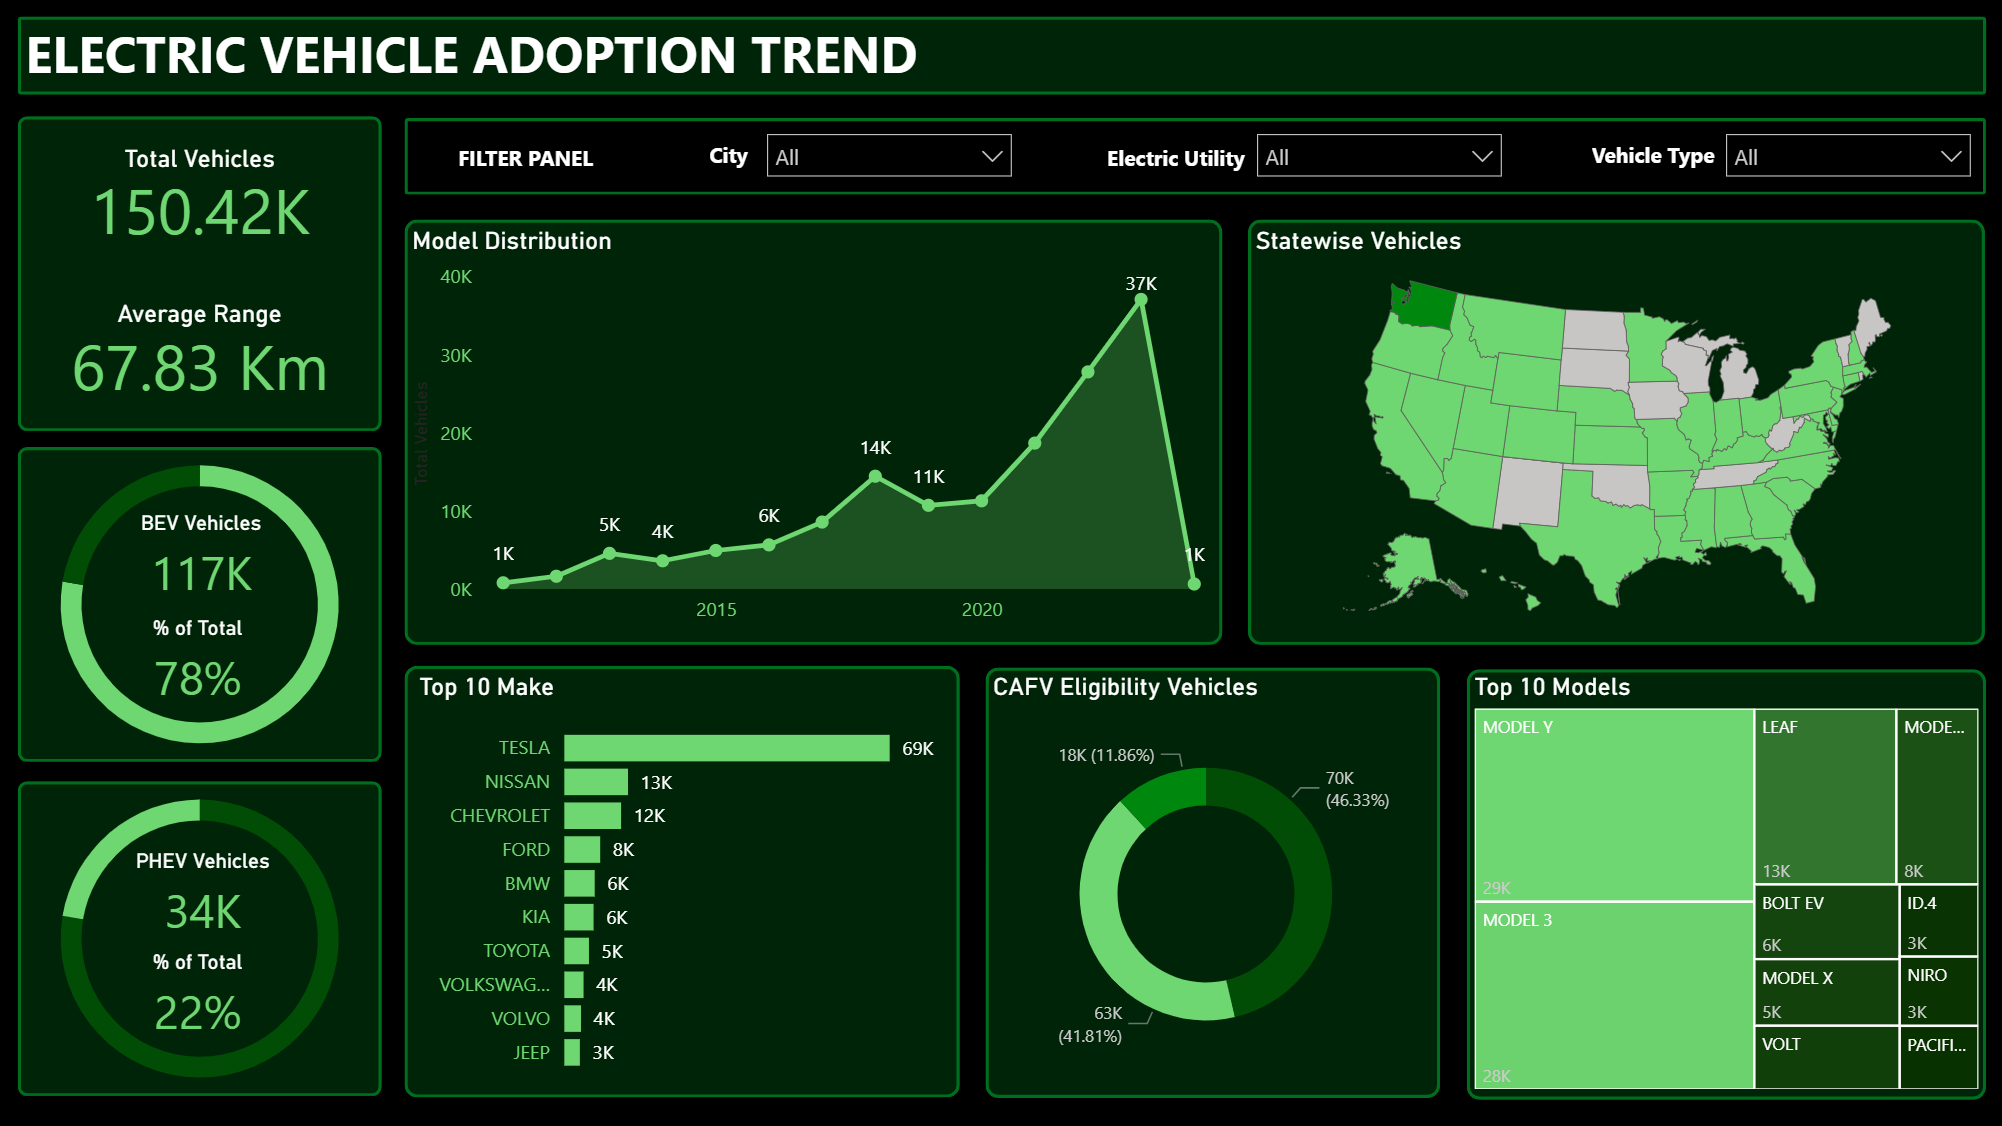

This screenshot's page, from the dashboard's own definition file:
{"tool":"powerbi","page":{"name":"Page 1","canvas":[1280,720],"ordinal":0},"visuals":[{"type":"shape","box":[14.9,11.2,1251.2,49.8],"z":0},{"type":"textbox","box":[14.9,7.5,597,58.5],"z":1000},{"type":"shape","box":[14.9,74.6,231.3,200.2],"z":2000},{"type":"card","title":"Total Vehicles","fields":{"Values":["Count(Electric_Vehicle_Population_Data.DOL Vehicle ID)"]},"box":[14.9,92,231.3,64.7],"z":3000},{"type":"card","title":"Average Range","fields":{"Values":["Electric_Vehicle_Population_Data.Avg Range"]},"box":[14.9,191.5,231.3,64.7],"z":4000},{"type":"shape","box":[14.9,284.8,231.3,200.2],"z":5000},{"type":"shape","box":[14.9,497.5,231.3,200.2],"z":6000},{"type":"donutChart","fields":{"Category":["Electric_Vehicle_Population_Data.Electric Vehicle Type"],"Y":["Electric_Vehicle_Population_Data.Total Vehicles"]},"box":[0,269.2,259.9,230.9],"z":7000},{"type":"card","title":"BEV Vehicles","fields":{"Values":["Electric_Vehicle_Population_Data.BEV Vehicles"]},"box":[15.8,324.6,230.9,64.7],"z":8000},{"type":"card","title":"% of Total","fields":{"Values":["Electric_Vehicle_Population_Data.% of BEV"]},"box":[13.2,391.9,230.9,64.7],"z":9000},{"type":"donutChart","fields":{"Category":["Electric_Vehicle_Population_Data.Electric Vehicle Type"],"Y":["Electric_Vehicle_Population_Data.Total Vehicles"]},"box":[0,481.6,259.9,230.9],"z":10000},{"type":"card","title":"PHEV Vehicles","fields":{"Values":["Electric_Vehicle_Population_Data.PHEV Vehicles"]},"box":[17.2,539.6,230.9,64.7],"z":11000},{"type":"card","title":"% of Total","fields":{"Values":["Electric_Vehicle_Population_Data.% of PHEV"]},"box":[13.2,604.3,230.9,64.7],"z":12000},{"type":"shape","box":[259.9,75.2,1005.4,48.8],"z":13000},{"type":"shape","box":[259.9,139.9,519.8,270.5],"z":14000},{"type":"areaChart","title":"Model Distribution","fields":{"Category":["Electric_Vehicle_Population_Data.Model Year"],"Y":["Electric_Vehicle_Population_Data.Total Vehicles"]},"box":[259.9,145.1,519.8,261.2],"z":15000},{"type":"shape","box":[796.9,139.9,468.4,270.5],"z":16000},{"type":"shapeMap","title":"Statewise Vehicles","fields":{"Category":["Electric_Vehicle_Population_Data.State"],"Value":["Electric_Vehicle_Population_Data.Total Vehicles"]},"box":[796.3,145.1,468.8,260.7],"z":17000},{"type":"shape","box":[260.4,423.5,352.9,274.5],"z":18000},{"type":"barChart","title":"Top 10 Make","fields":{"Category":["Electric_Vehicle_Population_Data.Make"],"Y":["Electric_Vehicle_Population_Data.Total Vehicles"]},"box":[265.1,428.2,337.3,263.5],"z":19000},{"type":"shape","box":[629.4,425.1,289,273.6],"z":20000},{"type":"donutChart","title":"CAFV Eligibility Vehicles","fields":{"Category":["Electric_Vehicle_Population_Data.Clean Alternative Fuel Vehicle (CAFV) Eligibility"],"Y":["Electric_Vehicle_Population_Data.Total Vehicles"]},"box":[629.4,427.7,280,263.3],"z":21000},{"type":"shape","box":[935.1,426.4,330.1,273.6],"z":22000},{"type":"treemap","title":"Top 10 Models","fields":{"Group":["Electric_Vehicle_Population_Data.Model"],"Values":["Electric_Vehicle_Population_Data.Total Vehicles"]},"box":[935.1,427.7,330.1,269.7],"z":23000},{"type":"textbox","box":[279.2,86.3,116.1,37.6],"z":24000},{"type":"slicer","title":"City","fields":{"Values":["Electric_Vehicle_Population_Data.City"]},"box":[480,75.3,175.7,42.4],"z":25000},{"type":"textbox","box":[414.1,84.7,105.1,28.2],"z":26000},{"type":"slicer","title":"City","fields":{"Values":["Electric_Vehicle_Population_Data.City"]},"box":[792.2,75.3,175.7,42.4],"z":27000},{"type":"slicer","title":"City","fields":{"Values":["Electric_Vehicle_Population_Data.City"]},"box":[1090.2,75.3,175.7,42.4],"z":28000},{"type":"textbox","box":[701.9,86.8,103.4,28.9],"z":29000},{"type":"textbox","box":[1010,84.5,90.1,33.4],"z":30000}]}

Visuals, with their boxes in screenshot pixels (x1, y1, x2, y2), scaled from the page's 1280x720 canvas onto the 2002x1126 screenshot:
shape: pyautogui.locateOnScreen(23, 18, 1980, 95)
textbox: pyautogui.locateOnScreen(23, 12, 957, 103)
shape: pyautogui.locateOnScreen(23, 117, 385, 430)
"Total Vehicles" card: pyautogui.locateOnScreen(23, 144, 385, 245)
"Average Range" card: pyautogui.locateOnScreen(23, 299, 385, 401)
shape: pyautogui.locateOnScreen(23, 445, 385, 758)
shape: pyautogui.locateOnScreen(23, 778, 385, 1091)
donutChart - Electric_Vehicle_Population_Data.Electric Vehicle Type x Electric_Vehicle_Population_Data.Total Vehicles: pyautogui.locateOnScreen(0, 421, 406, 782)
"BEV Vehicles" card: pyautogui.locateOnScreen(25, 508, 386, 609)
"% of Total" card: pyautogui.locateOnScreen(21, 613, 382, 714)
donutChart - Electric_Vehicle_Population_Data.Electric Vehicle Type x Electric_Vehicle_Population_Data.Total Vehicles: pyautogui.locateOnScreen(0, 753, 406, 1114)
"PHEV Vehicles" card: pyautogui.locateOnScreen(27, 844, 388, 945)
"% of Total" card: pyautogui.locateOnScreen(21, 945, 382, 1046)
shape: pyautogui.locateOnScreen(406, 118, 1979, 194)
shape: pyautogui.locateOnScreen(406, 219, 1219, 642)
"Model Distribution" areaChart: pyautogui.locateOnScreen(406, 227, 1219, 635)
shape: pyautogui.locateOnScreen(1246, 219, 1979, 642)
"Statewise Vehicles" shapeMap: pyautogui.locateOnScreen(1245, 227, 1979, 635)
shape: pyautogui.locateOnScreen(407, 662, 959, 1092)
"Top 10 Make" barChart: pyautogui.locateOnScreen(415, 670, 942, 1082)
shape: pyautogui.locateOnScreen(984, 665, 1436, 1093)
"CAFV Eligibility Vehicles" donutChart: pyautogui.locateOnScreen(984, 669, 1422, 1081)
shape: pyautogui.locateOnScreen(1463, 667, 1979, 1095)
"Top 10 Models" treemap: pyautogui.locateOnScreen(1463, 669, 1979, 1091)
textbox: pyautogui.locateOnScreen(437, 135, 618, 194)
"City" slicer: pyautogui.locateOnScreen(751, 118, 1026, 184)
textbox: pyautogui.locateOnScreen(648, 132, 812, 177)
"City" slicer: pyautogui.locateOnScreen(1239, 118, 1514, 184)
"City" slicer: pyautogui.locateOnScreen(1705, 118, 1980, 184)
textbox: pyautogui.locateOnScreen(1098, 136, 1260, 181)
textbox: pyautogui.locateOnScreen(1580, 132, 1721, 184)
